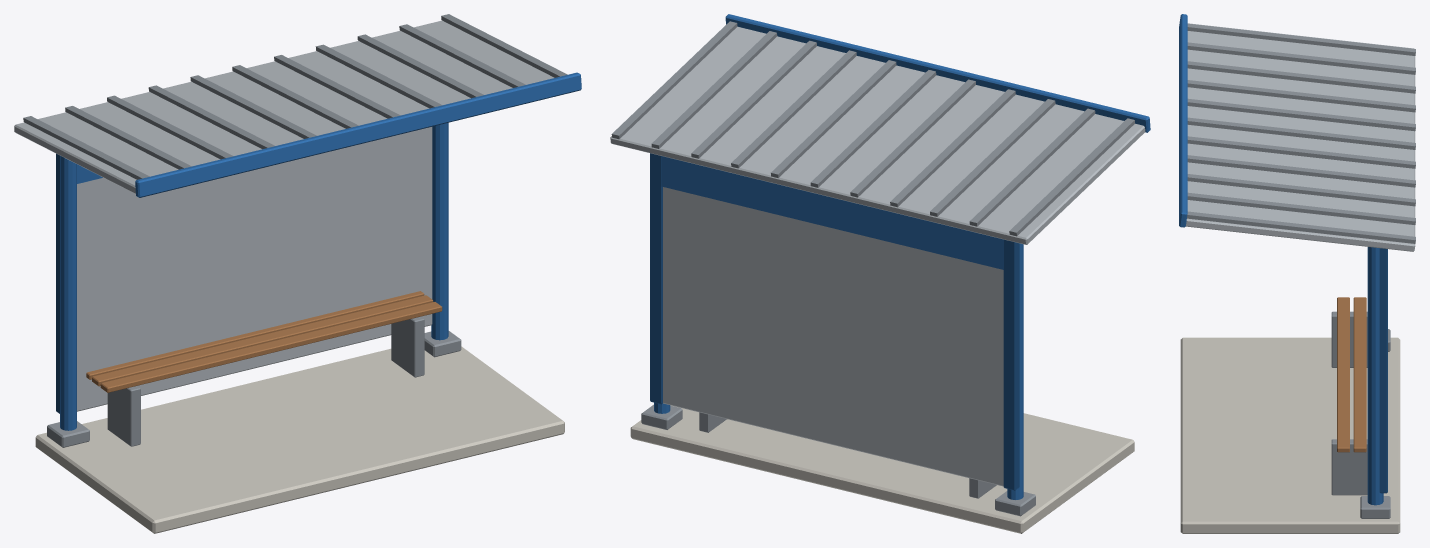
Rendered from PontoOnibus.fbx.
3 renders of one model, left to right at view 1: azimuth 30°, elevation 25°; view 2: azimuth 150°, elevation 25°; view 3: azimuth 270°, elevation 25°, orthographic. The views are drawn at different scales.
Visible parts, largest first — view 1: Fundo, PontoOnibus, Cobertura, PosteA, PosteB; view 2: Fundo, Cobertura, PontoOnibus, PosteA, PosteB; view 3: Cobertura, PontoOnibus, PosteB, Fundo.
Part boxes in pixels (<box>): Fundo: <box>56,127,432,413</box>; PontoOnibus: <box>35,291,564,533</box>; Cobertura: <box>14,14,581,197</box>; PosteA: <box>47,155,89,447</box>; PosteB: <box>424,122,461,357</box>; Fundo: <box>650,153,1019,490</box>; Cobertura: <box>610,14,1150,244</box>; PontoOnibus: <box>630,405,1134,533</box>; PosteA: <box>995,243,1035,516</box>; PosteB: <box>641,402,682,429</box>; Cobertura: <box>1179,14,1415,251</box>; PontoOnibus: <box>1180,297,1400,533</box>; PosteB: <box>1360,247,1390,518</box>; Fundo: <box>1379,248,1387,493</box>.
Bounding box in the file's own units: 3.44 × 2.65 × 1.73.
Materials: 1 (1 with a texture image).
